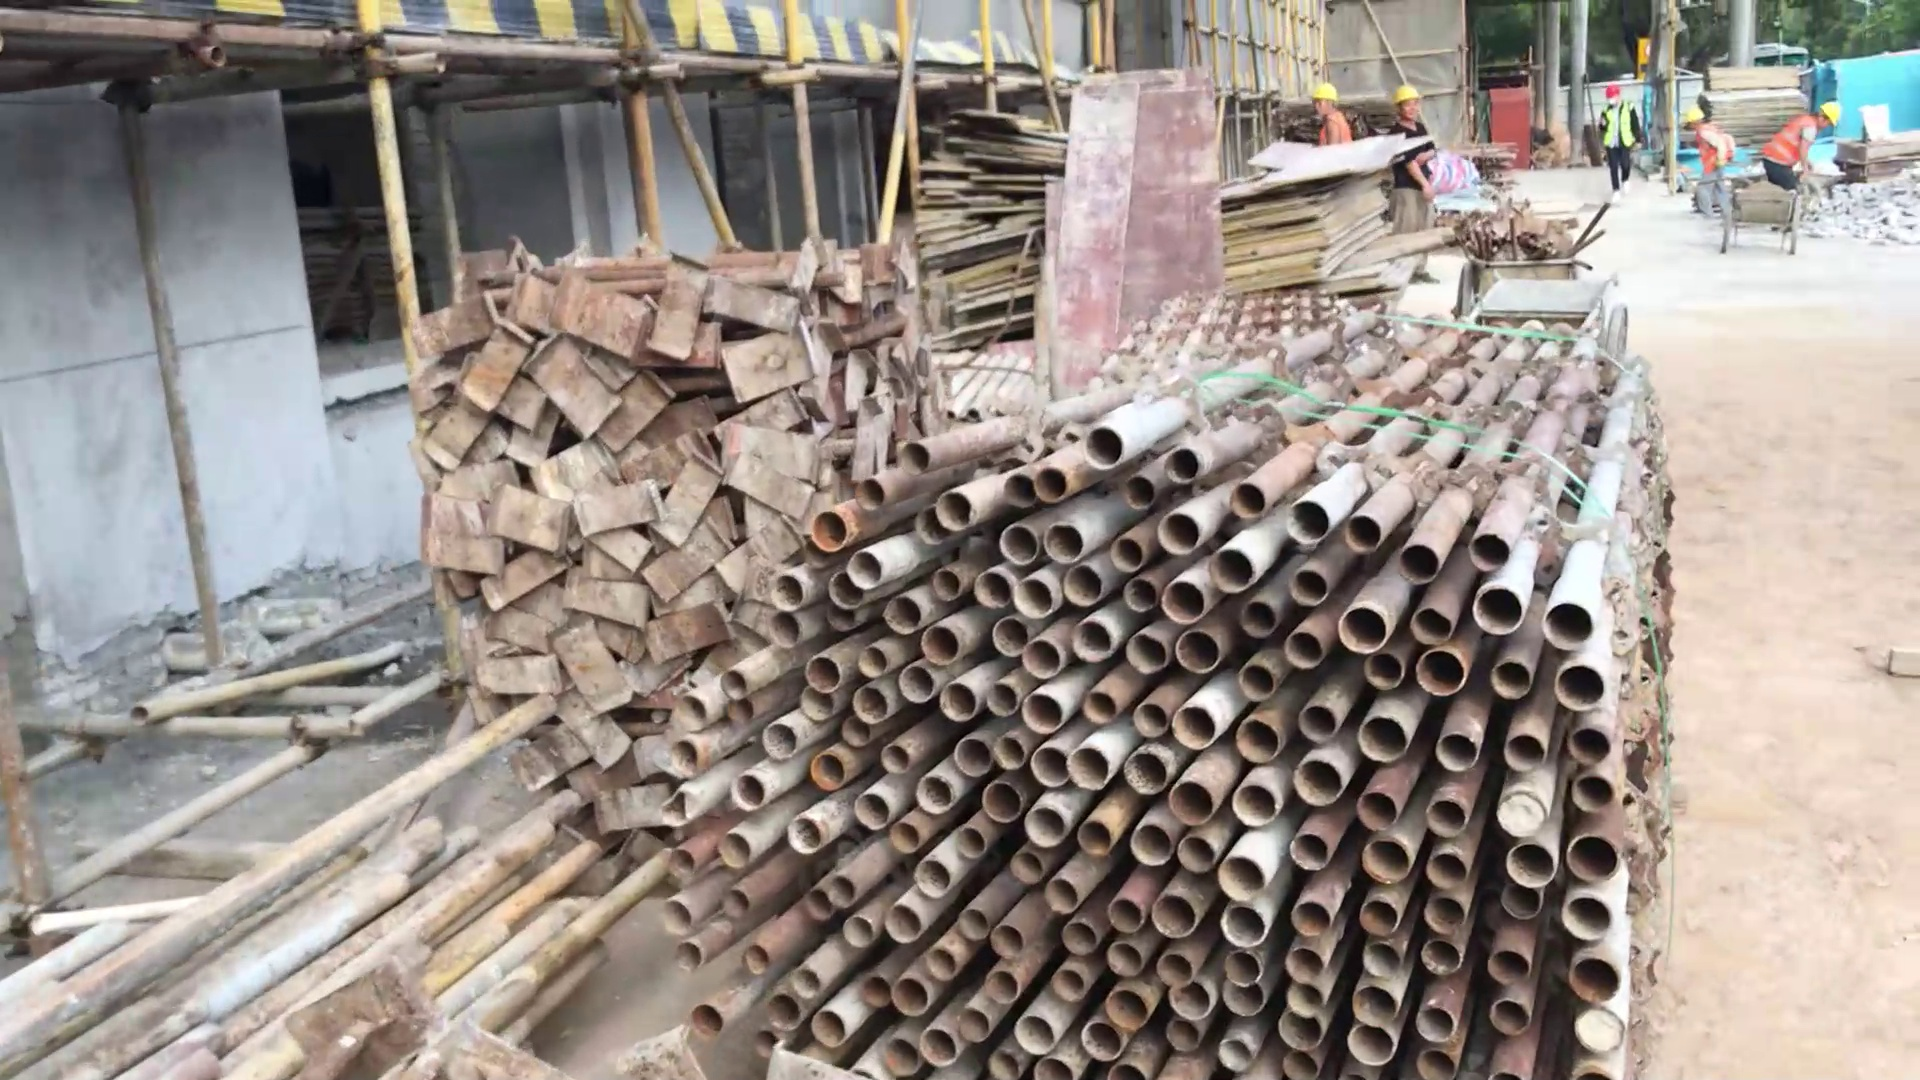helmet: (1306, 79, 1345, 105), (1818, 95, 1845, 133), (1392, 81, 1427, 106), (1684, 100, 1710, 131), (1599, 83, 1622, 105)
person: (1388, 76, 1449, 288), (1760, 95, 1848, 206), (1675, 97, 1743, 230), (1587, 78, 1651, 210), (1301, 76, 1361, 153)
vest: (1762, 111, 1821, 172), (1690, 118, 1735, 176), (1603, 99, 1639, 153), (1312, 107, 1354, 145)
